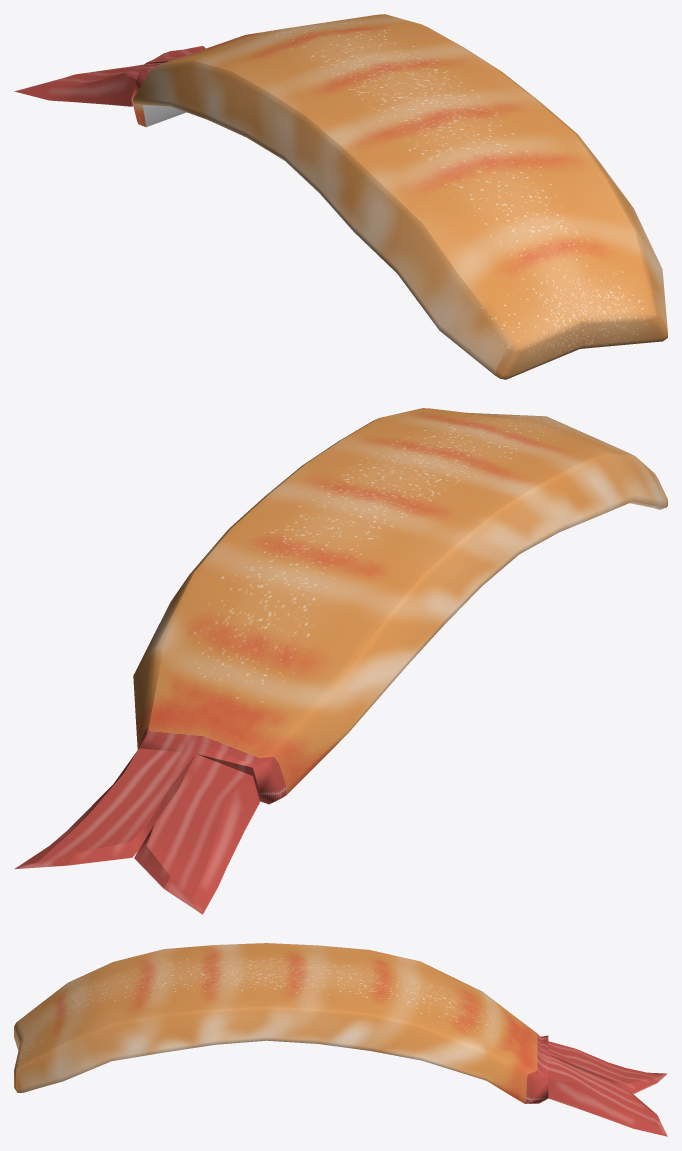
The model's file is neta_shrimp.fbx.
3 views of the same model, one above another, from view 1: azimuth 30°, elevation 25°; view 2: azimuth 150°, elevation 25°; view 3: azimuth 270°, elevation 25° (orthographic). The views are drawn at different scales.
Parts seen in each view (by area): view 1: Neta_Shrimp; view 2: Neta_Shrimp; view 3: Neta_Shrimp.
Boxes of the visible parts, x1,y1,x2,y2 form: Neta_Shrimp: [14, 14, 667, 379]; Neta_Shrimp: [14, 408, 667, 914]; Neta_Shrimp: [14, 943, 667, 1136].
Size of the model in its own units: 0.8832 by 0.6794 by 2.94.
1 material, 1 textured.
